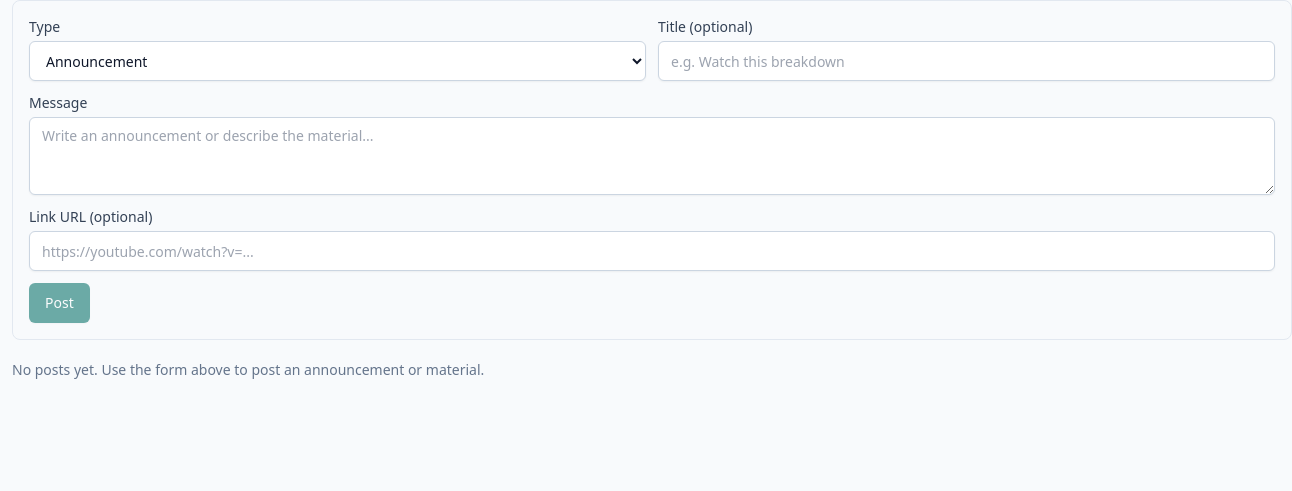
StreamTab › coach can create a post and it appears in the list
Expected: the button "Post" is shown, top-left (29, 283), bottom-right (90, 323)
Expected: the text "No posts yet" is shown, top-left (12, 360), bottom-right (484, 379)
In the field with placeholder "e.g. Watch this breakdown": (966, 61) top-left (658, 41), bottom-right (1275, 81), type "New post title"
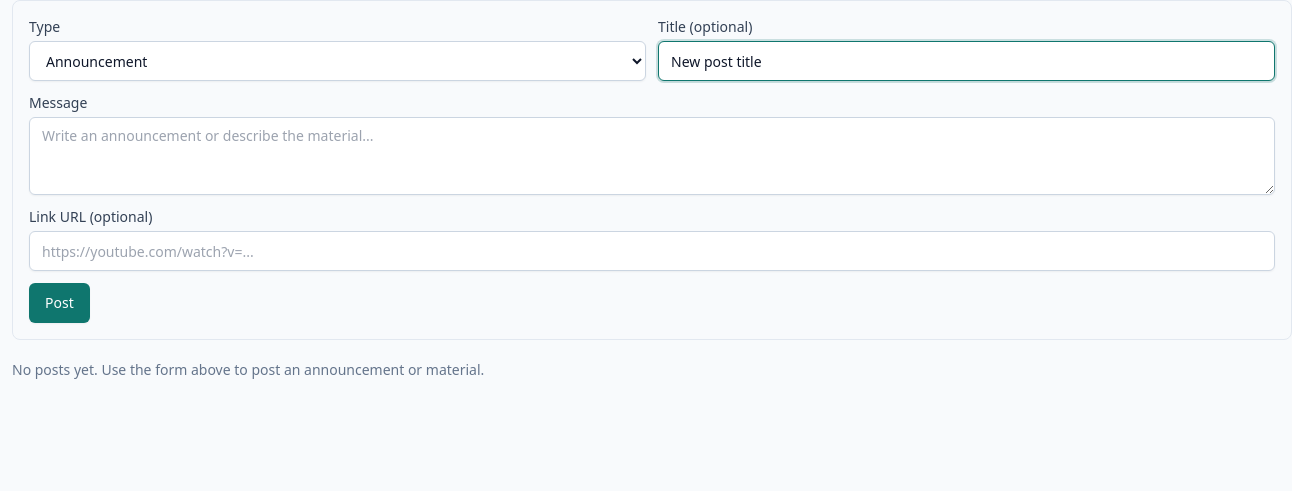
In the text box with placeholder "Write an announcement or describe the material...": (652, 156) top-left (29, 117), bottom-right (1275, 195), type "New post body"
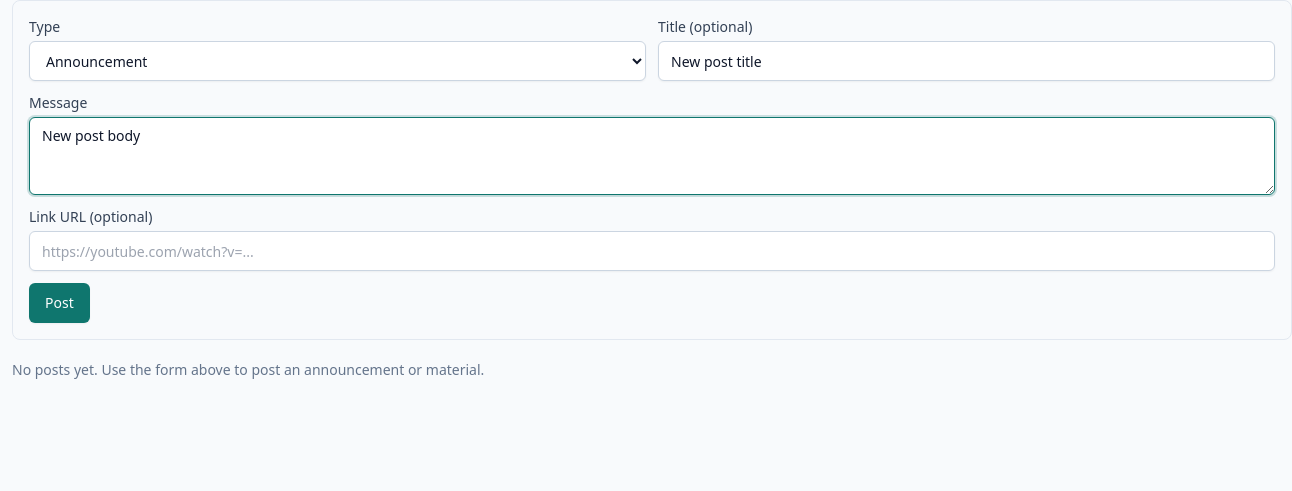
Click the button "Post": (59, 303) top-left (29, 283), bottom-right (90, 323)
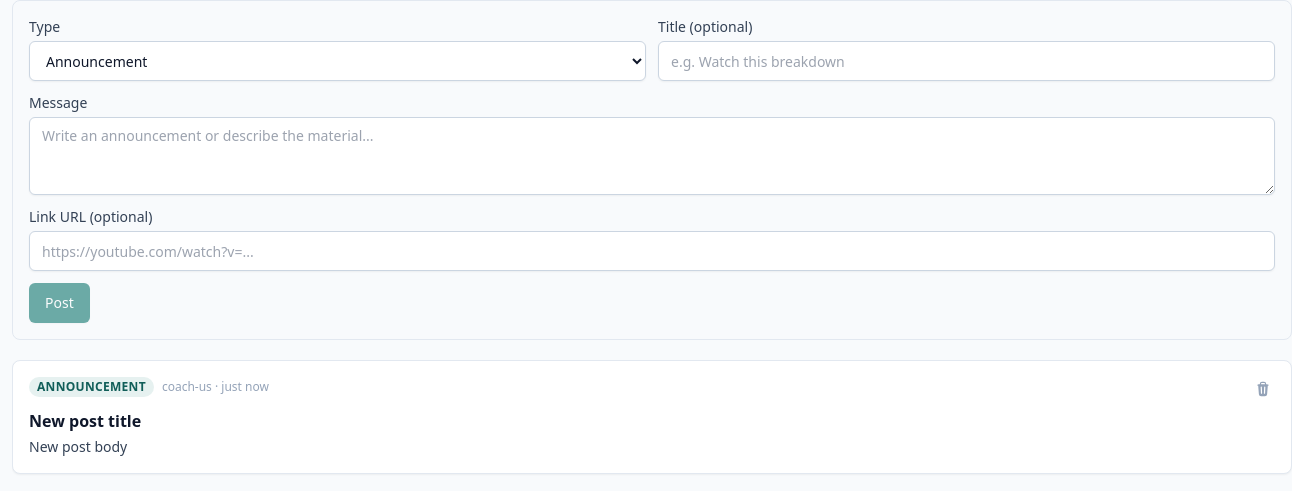
Expected: the heading "New post title" is shown, top-left (29, 410), bottom-right (141, 432)
Expected: the text "New post body" is shown, top-left (29, 437), bottom-right (127, 456)
